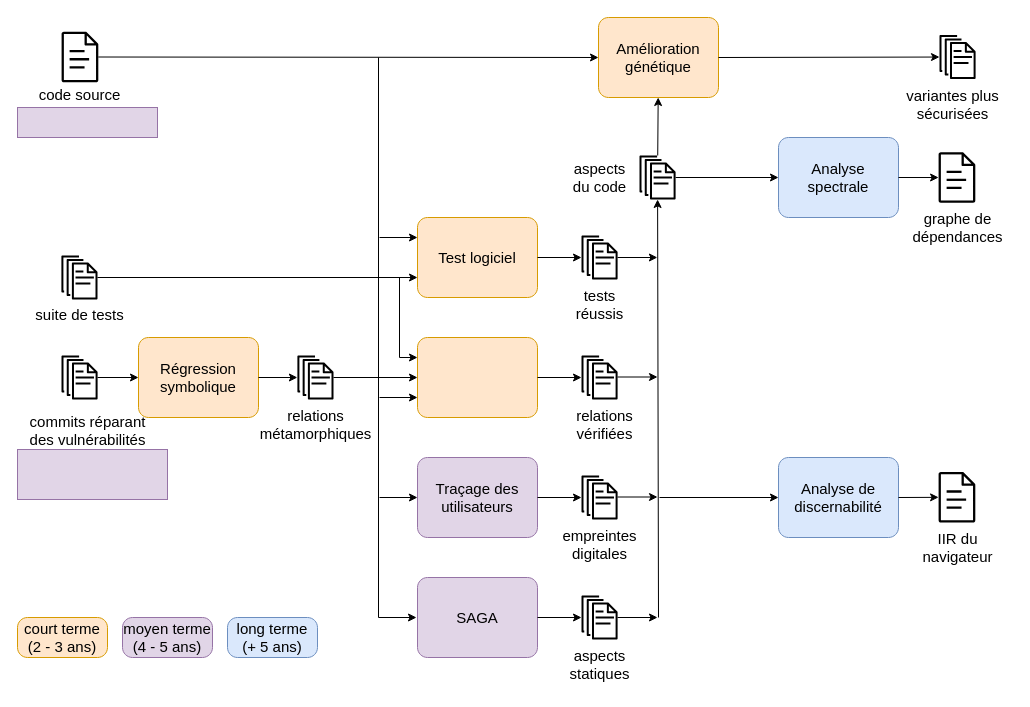
This 1030x707 diagram has some shape labels left out. Here are the shapes that lost their labels. From the top down, the centre of each, then its label:
point 87,122: (resp. navigateur)
point 477,377: Test métamorphique + AIM
point 92,474: (resp. observations client/serveur)
